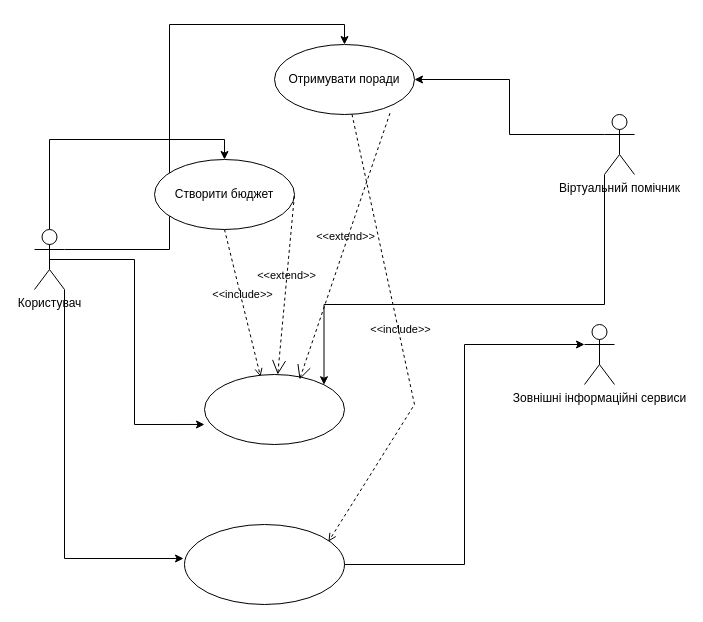
The diagram is 703 pixels wide and 622 high, and some of its shapes have lost their labels. Here are the shapes that lost their labels. From the top down, the box of each, then its label:
(204, 374, 344, 444): Вести облік фінансів
(184, 524, 344, 604): Взаємодія з API зовнішніх інформаційних сервісів
